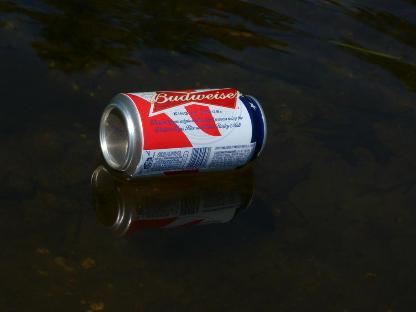Can: (95, 80, 269, 180)
